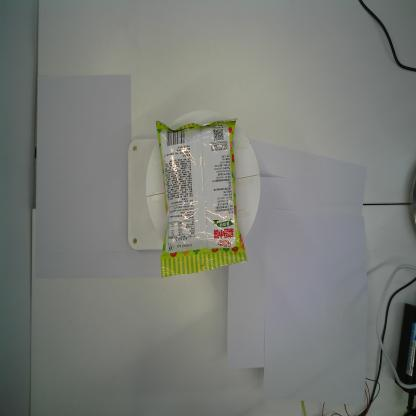Puffed Food: (154, 117, 249, 278)
